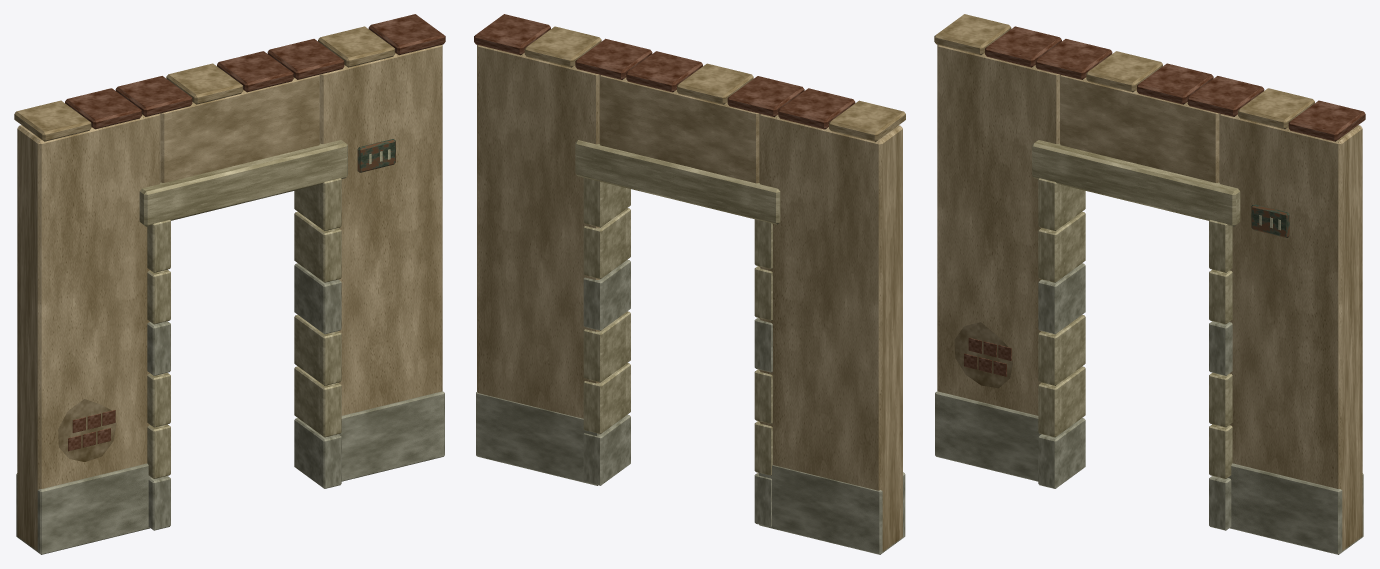
The model's file is plaster_doorway_3m.glb.
The picture shows the model from 3 angles, left to right: view 1: azimuth 30°, elevation 25°; view 2: azimuth 150°, elevation 25°; view 3: azimuth 330°, elevation 25°; orthographic projection.
Parts seen in each view (by area): view 1: plaster_doorway_3m; view 2: plaster_doorway_3m; view 3: plaster_doorway_3m.
Part boxes in pixels (x1,y1,x2,y2): plaster_doorway_3m: [14, 14, 445, 554]; plaster_doorway_3m: [474, 14, 905, 554]; plaster_doorway_3m: [934, 14, 1365, 554].
Bounding box in the file's own units: 3 × 3 × 0.425.
Materials: 1 (1 with a texture image).
